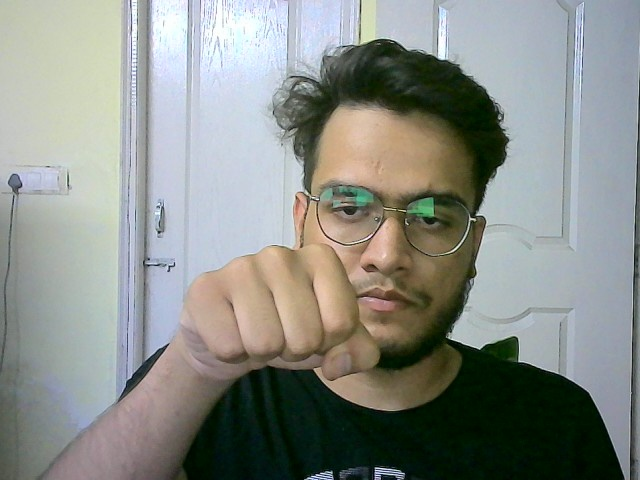Yes: (170, 236, 389, 397)
